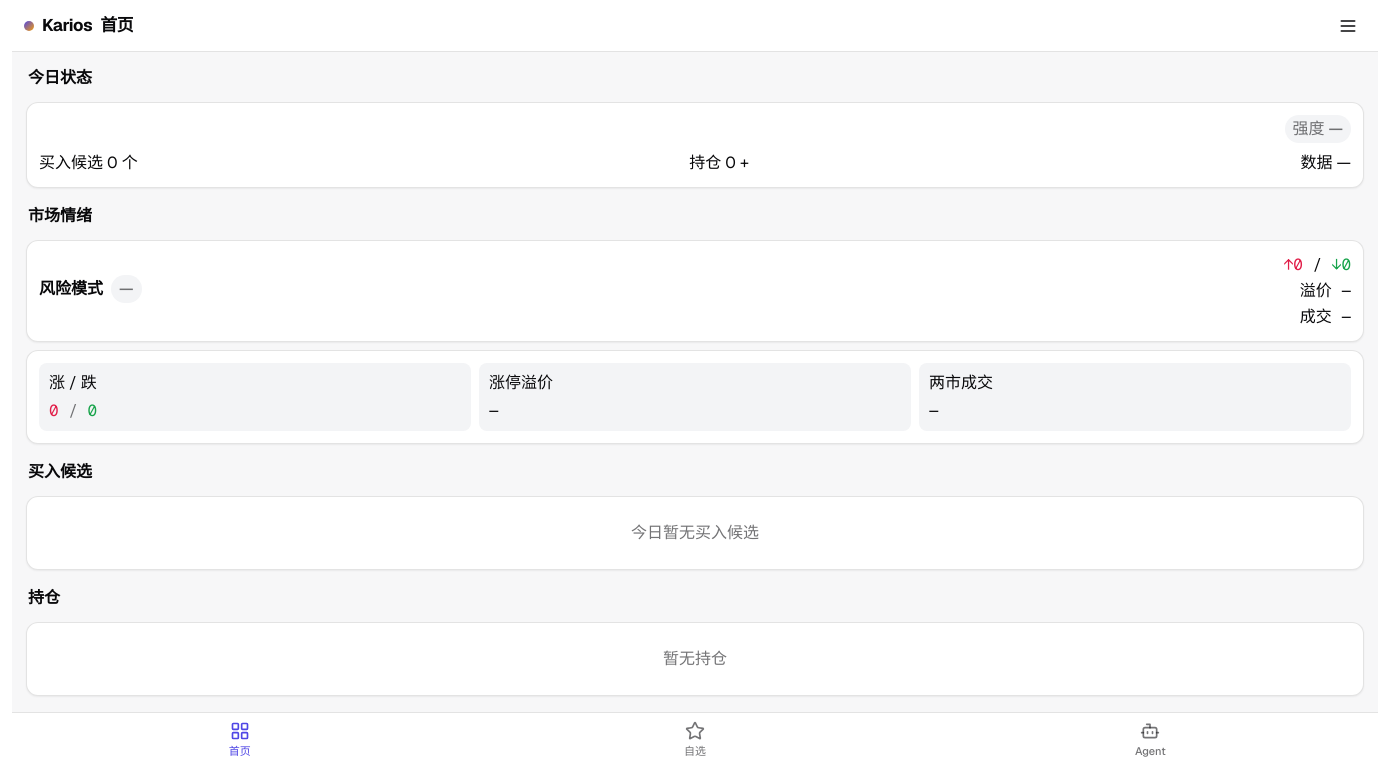
MobileShell (IA v2 — 3 tabs + header 更多) › opens a page from 更多 and returns via back button
Click the button named "更多". click: (1348, 26)
box: [1330,8,1366,44]
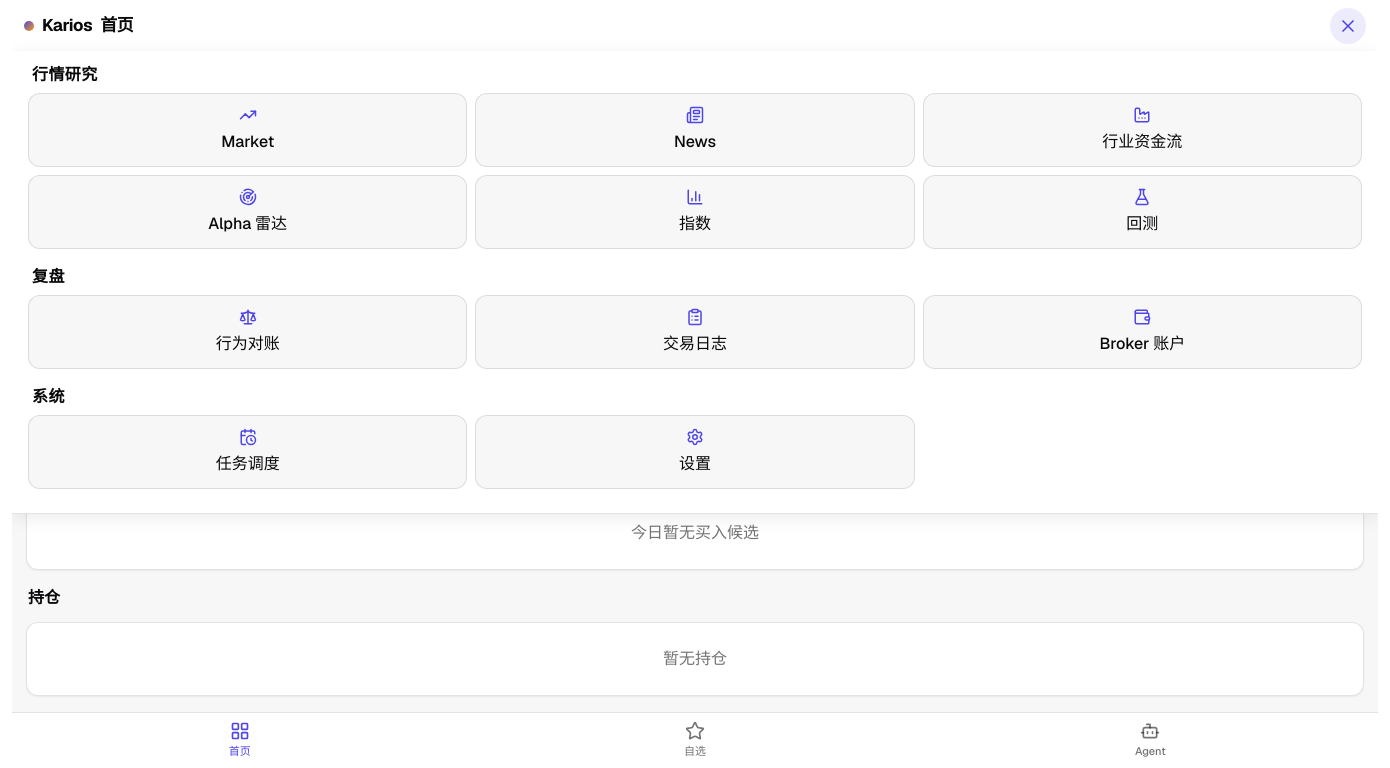
Click the button "任务调度". click: (248, 452)
box: [28,415,467,489]
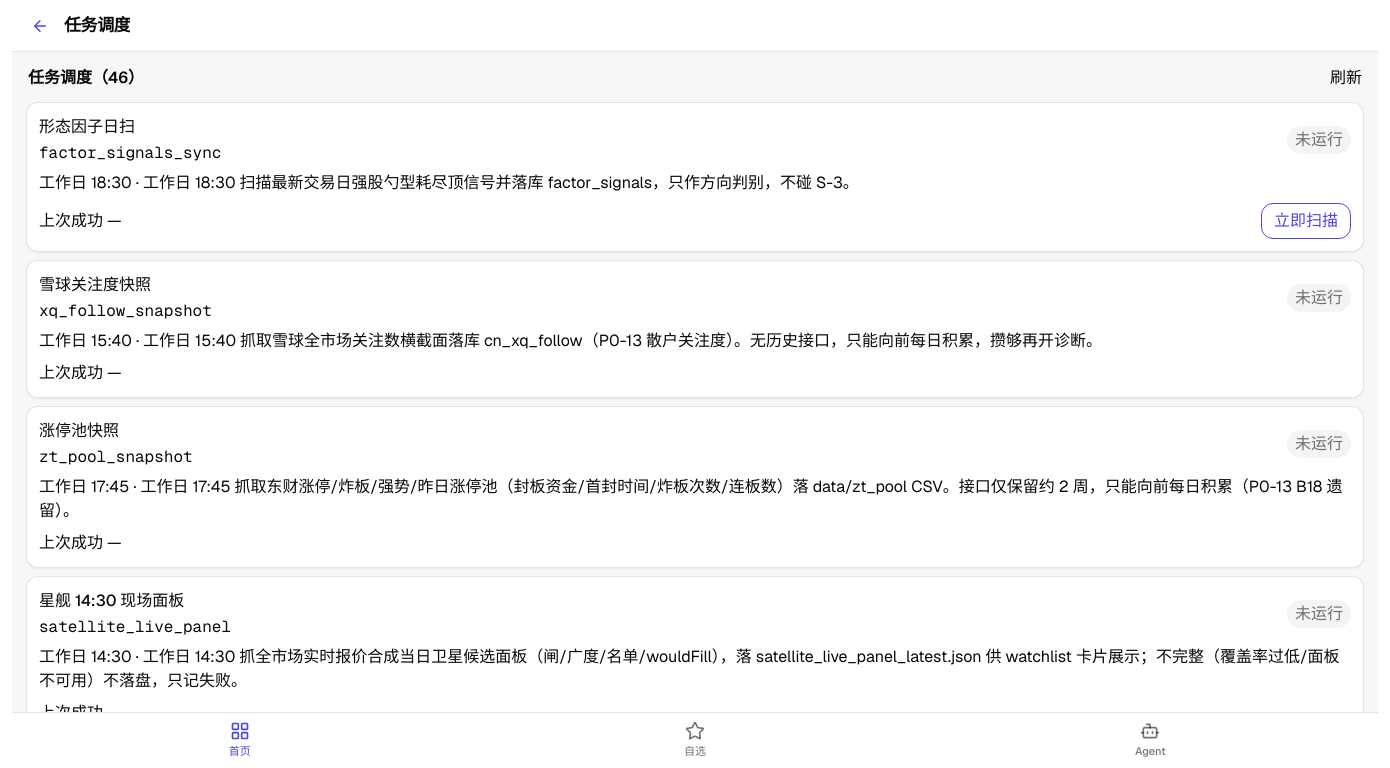
Result: the heading "任务调度（46）" is shown at [28,67,144,88]
Click the button named "返回". click: (40, 26)
box: [24,10,56,42]
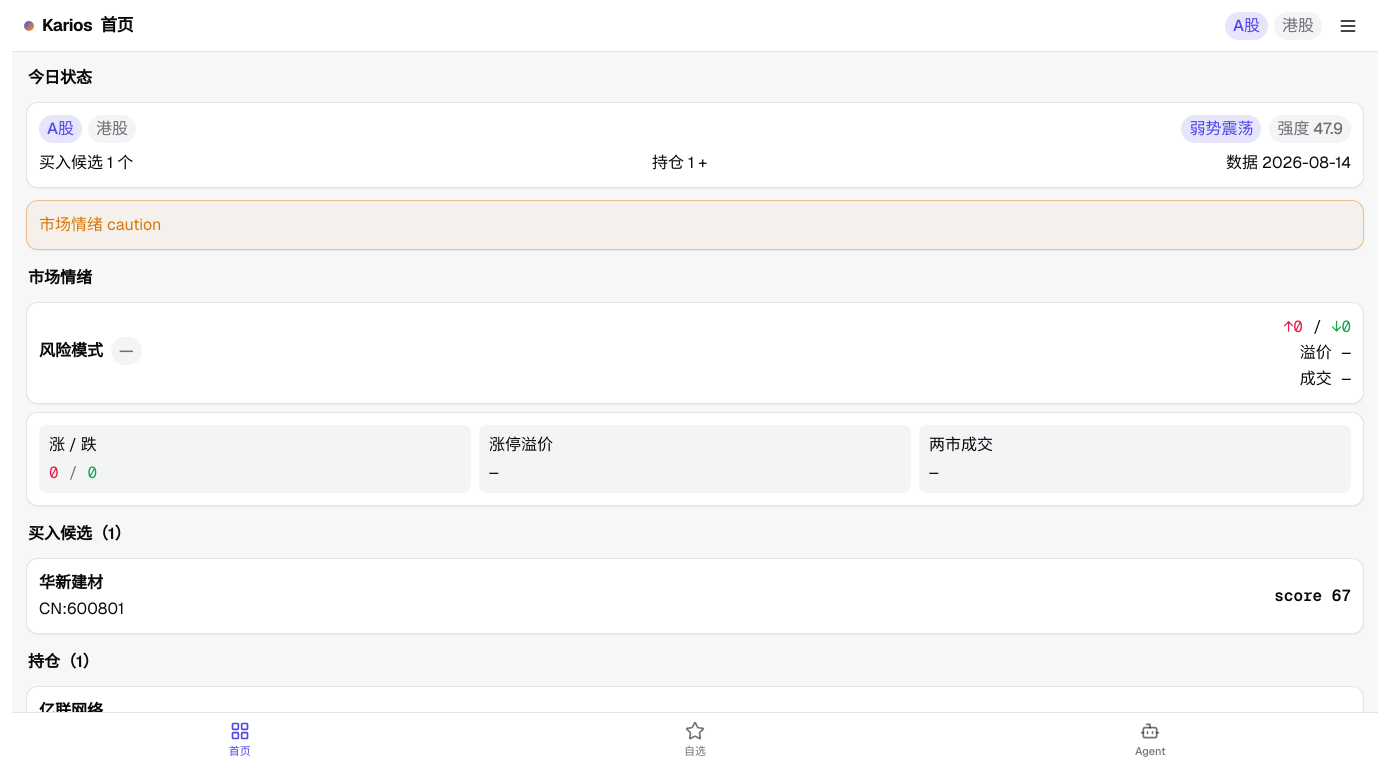
Result: the text "首页" next to "Karios" is shown at [100,14,133,36]
